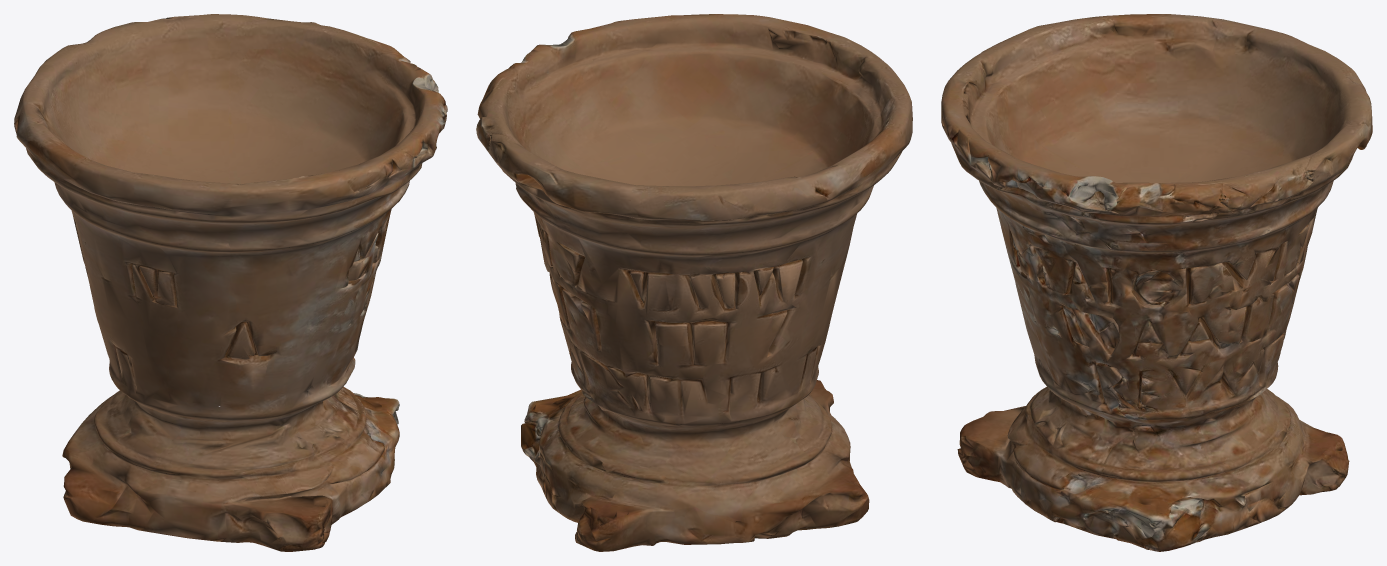
Rendered from votive-vessel.glb.
3 renders of one model, left to right at view 1: azimuth 30°, elevation 25°; view 2: azimuth 150°, elevation 25°; view 3: azimuth 270°, elevation 25°, orthographic.
Visible parts, largest first — view 1: tripo_node_26bb5a85-0369-469b-b250-293d63991b68; view 2: tripo_node_26bb5a85-0369-469b-b250-293d63991b68; view 3: tripo_node_26bb5a85-0369-469b-b250-293d63991b68.
Part boxes in pixels (box(x1,y1,x2,y2)): tripo_node_26bb5a85-0369-469b-b250-293d63991b68: box(14, 14, 447, 551); tripo_node_26bb5a85-0369-469b-b250-293d63991b68: box(476, 14, 912, 551); tripo_node_26bb5a85-0369-469b-b250-293d63991b68: box(941, 14, 1372, 551).
Bounding box in the file's own units: 0.9704 × 0.9479 × 0.9808.
1 material, 1 textured.
